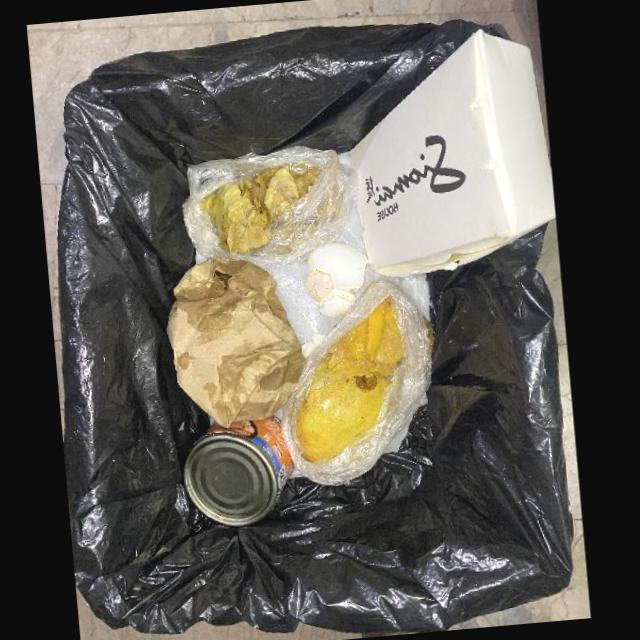carton: (351, 30, 555, 278)
giay: (166, 257, 306, 429)
nhom: (183, 415, 294, 527)
thuc_an_thua: (199, 163, 320, 255)
tui_ni_long: (275, 279, 434, 486), (181, 146, 353, 269)
vo_trai_cay: (295, 300, 403, 462)
vo_trung: (303, 242, 369, 317)
